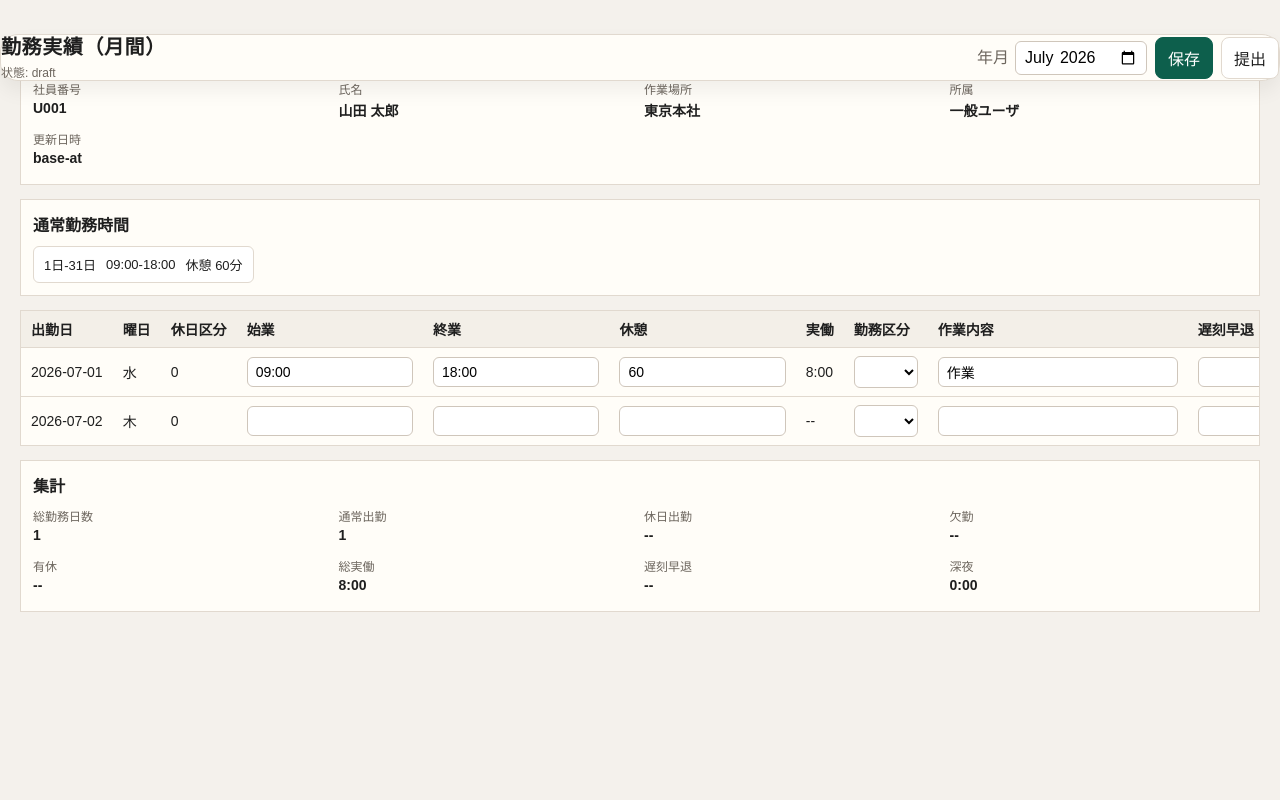
勤務実績画面 › dirty状態の月変更は確認ダイアログを表示し、キャンセルで切替しない
Step 1. Replace the text in the field named "2026-07-01 作業内容" with "未保存" → (1058, 372), box [938,357,1178,387]
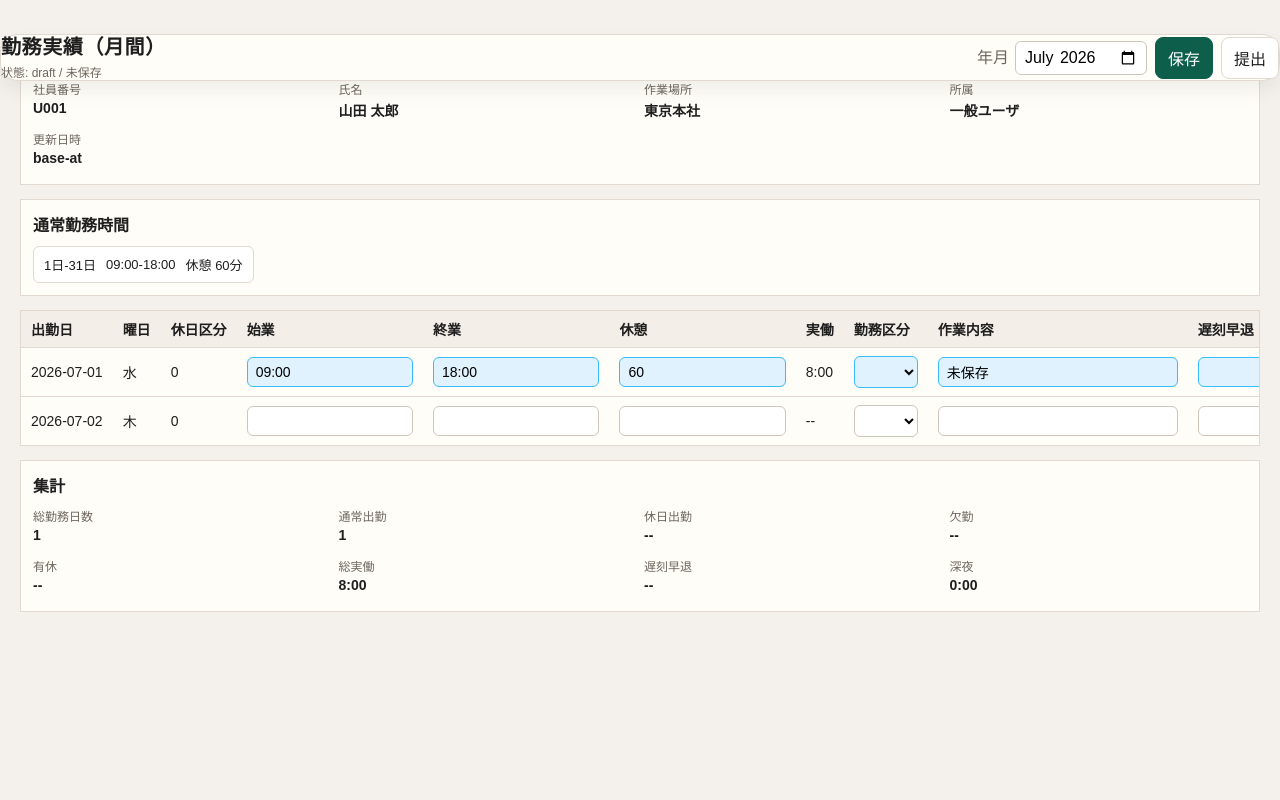
Step 2. Replace the text in the field named "対象年月" with "2026-08" → (1081, 58), box [1015,40,1147,74]
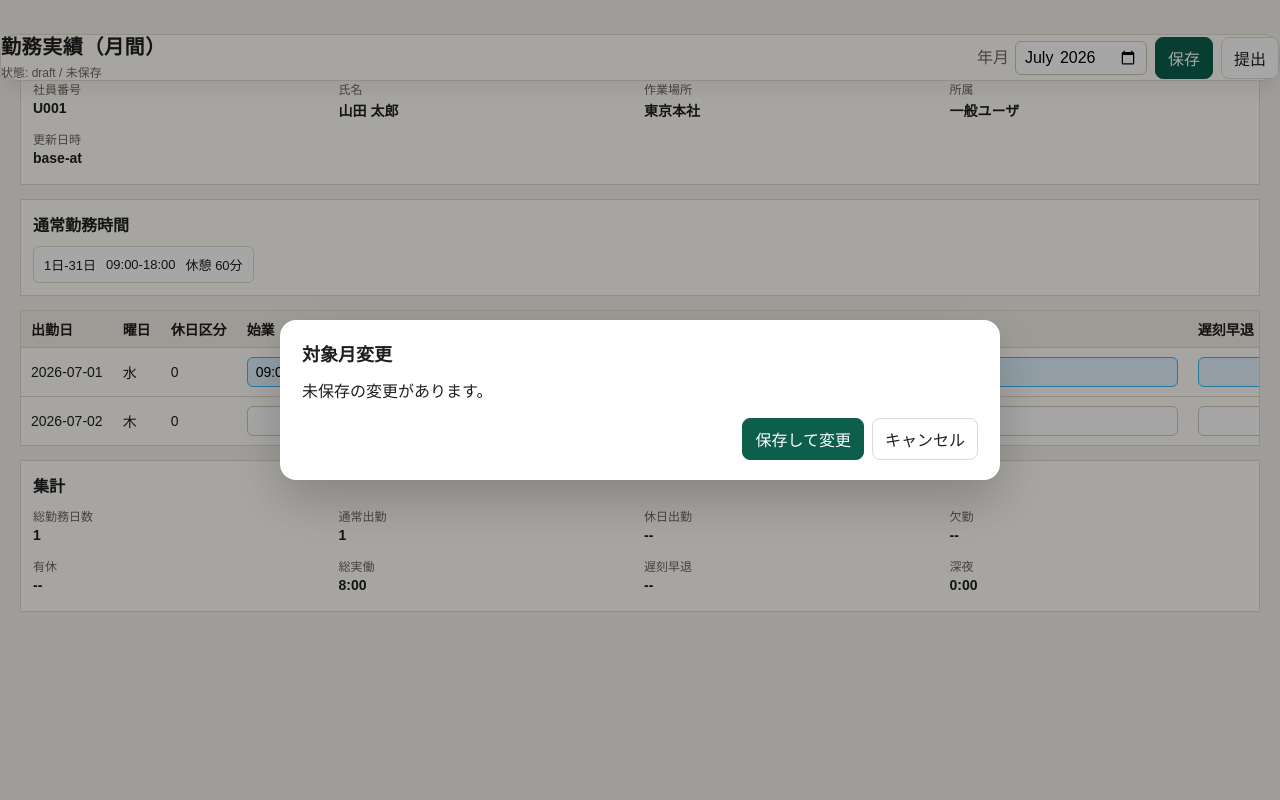
Now the dialog is shown, box [280,320,1000,480]
Step 3. Click the button "キャンセル" → (925, 439), box [872,418,978,460]
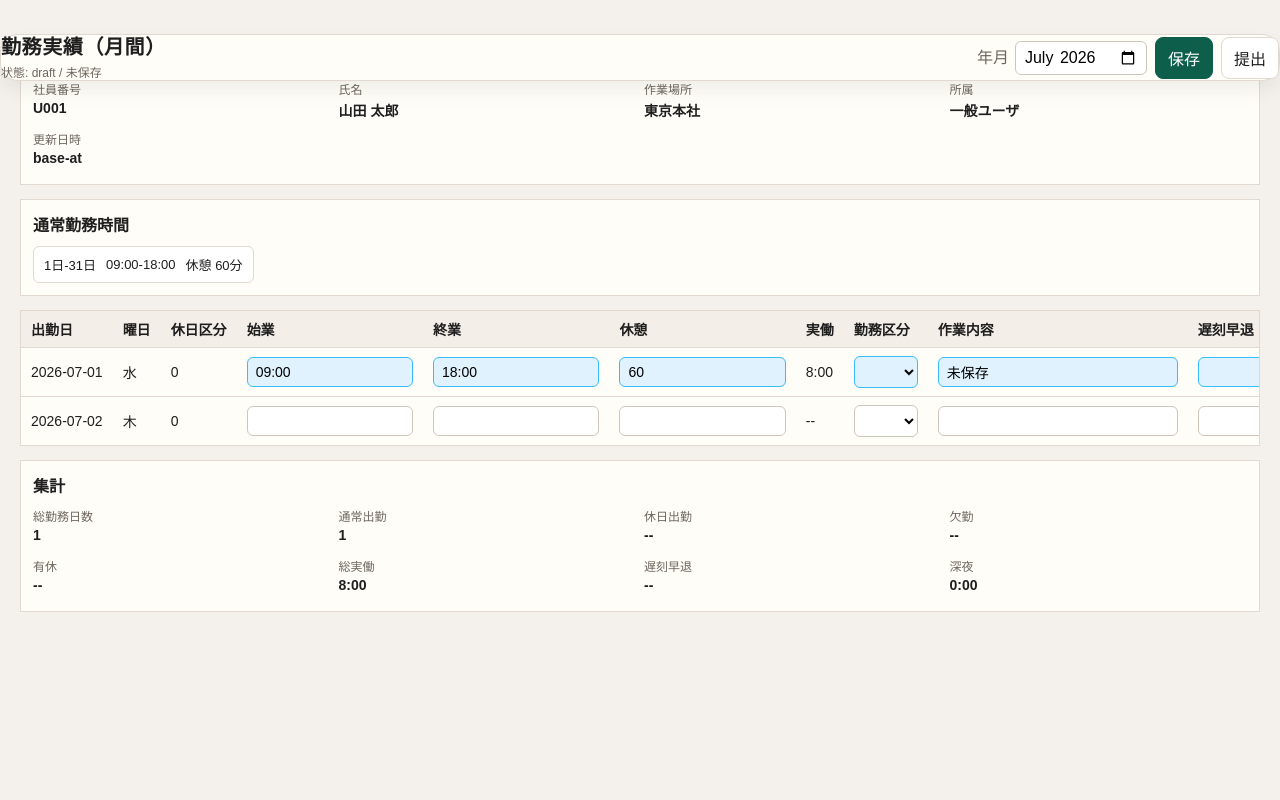
Expected: the field named "対象年月" holds "2026-07", [1015,40,1147,74]
Now the dialog is gone
